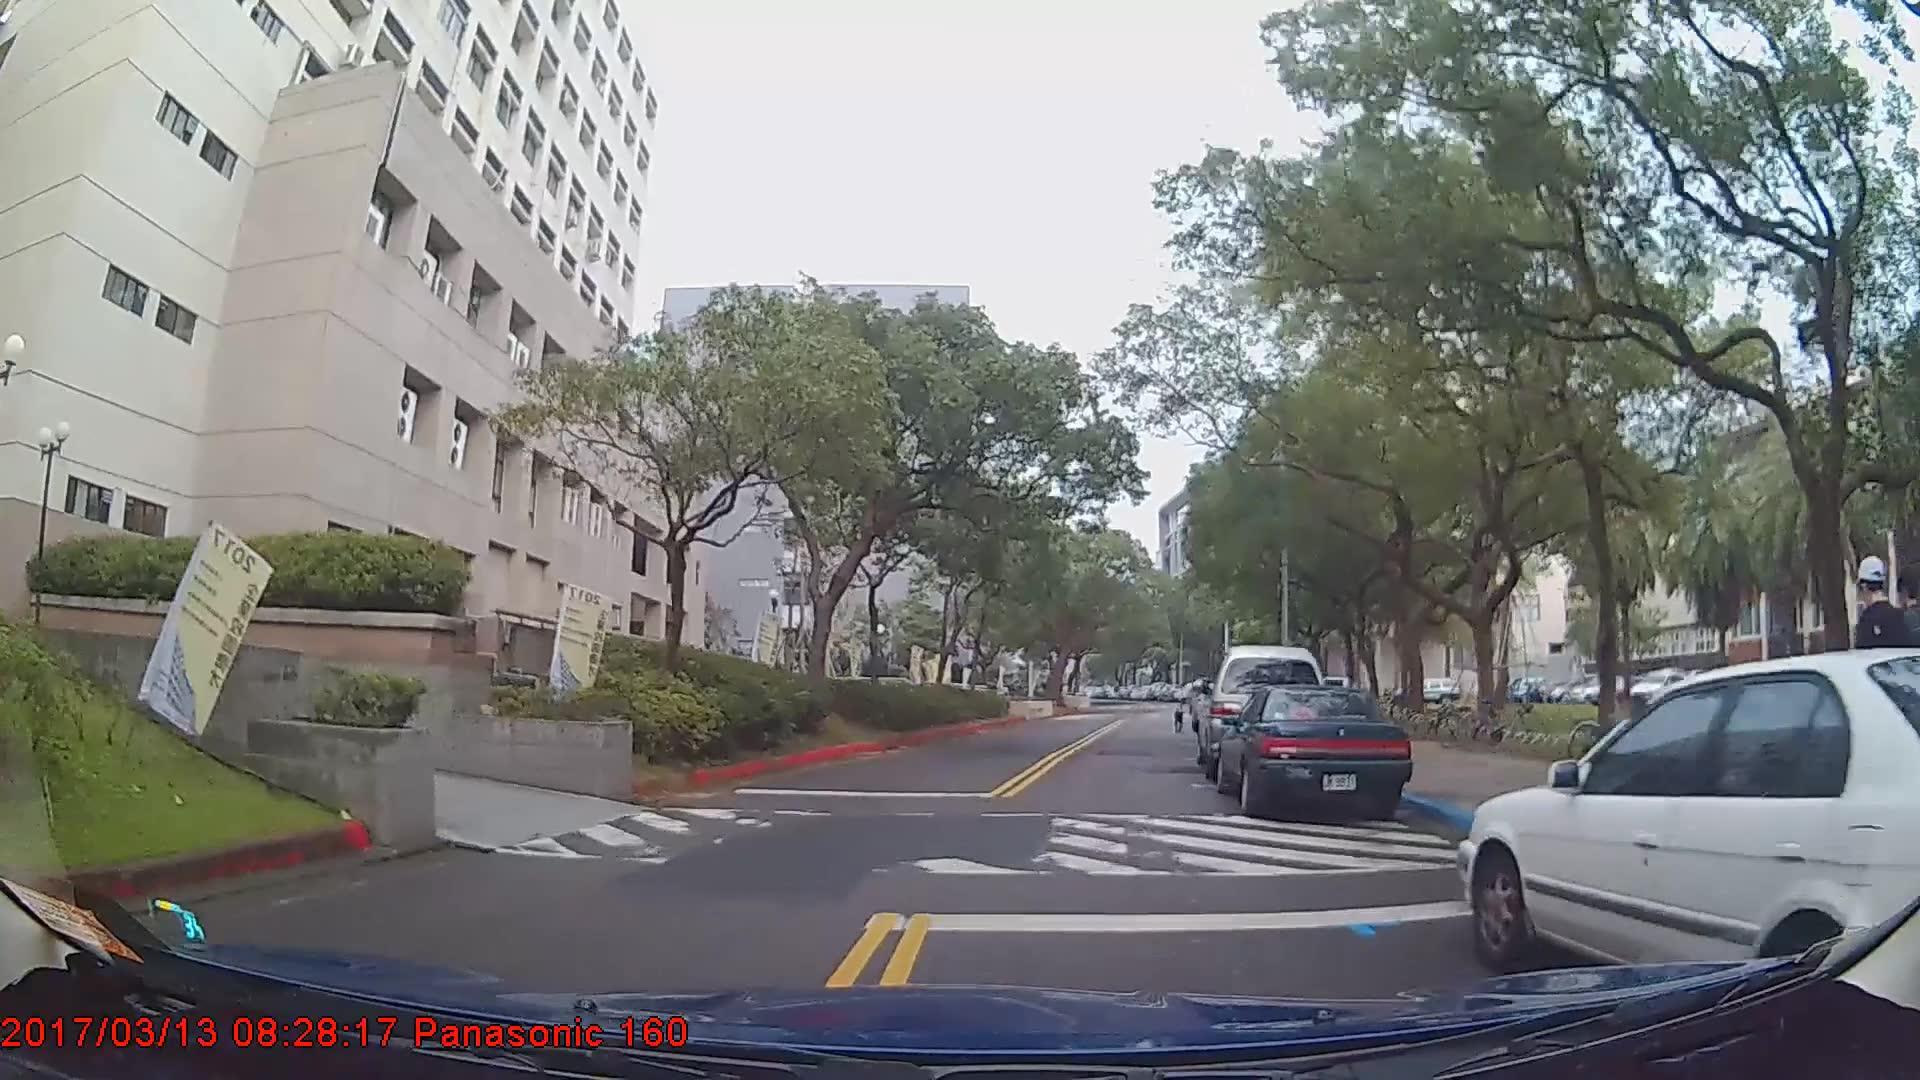pedestrian: (1847, 555, 1902, 835)
vehicle: (1458, 643, 1920, 1022), (1213, 685, 1410, 821), (1199, 643, 1333, 780)
